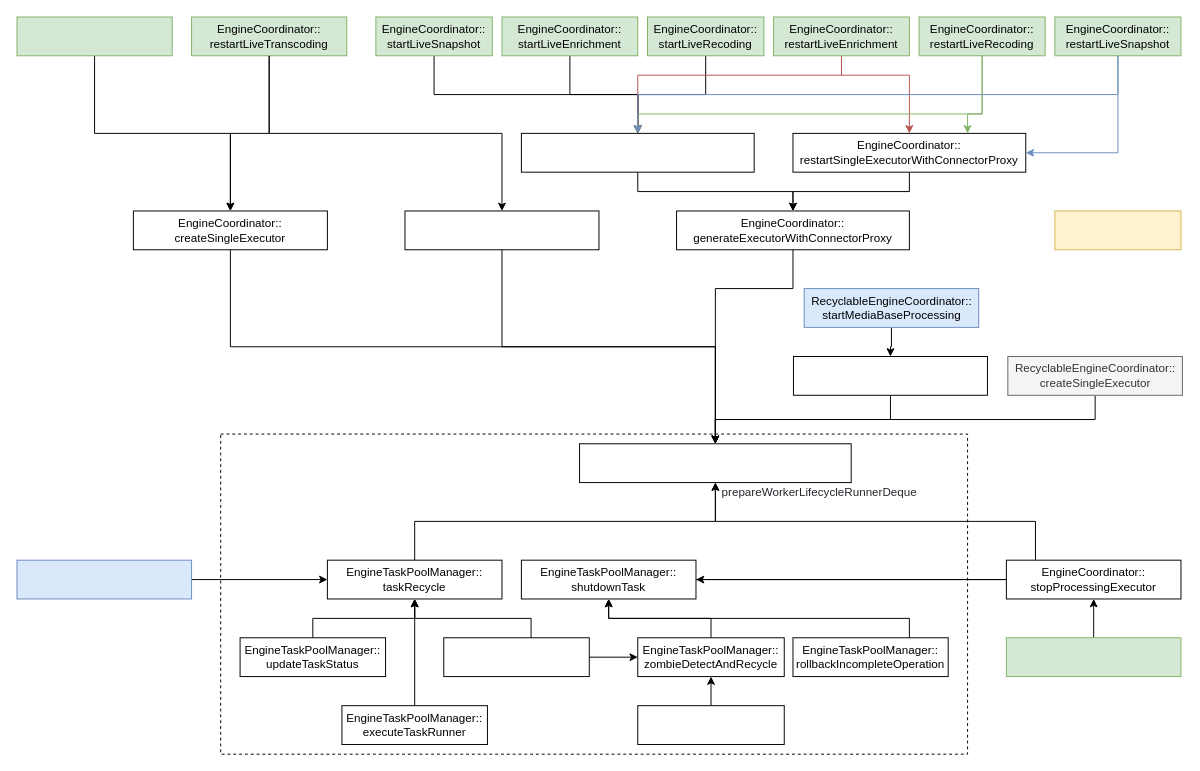
The diagram is 1200 pixels wide and 771 high, and some of its shapes have lost their labels. The shapes that lost their labels are listed below. From the top down, each one's box as (x1, y1, x2, y2) in pixels, then its label:
(16, 16, 172, 56): EngineCoordinator:: startLiveTranscoding
(520, 132, 754, 172): EngineCoordinator:: createSingleExecutorWithConnectorProxy
(404, 210, 599, 250): EngineCoordinator:: restartSingleExecutor
(1054, 210, 1181, 250): EngineCoordinator:: getLiveStatus
(792, 356, 987, 395): RecyclableEngineCoordinator:: createMediaBaseExecutor
(579, 443, 851, 483): EngineTaskPoolManager:: appendWorkerLifecycleOperation
(16, 559, 192, 599): RecyclableEngineCoordinator:: stopProcessingExecutor
(443, 637, 589, 677): EngineTaskPoolManager:: batchSeekStatus
(1005, 637, 1181, 677): EngineCoordinator:: stopLiveProcessing
(637, 705, 784, 744): EngineTaskPoolManager:: seekStatusById
